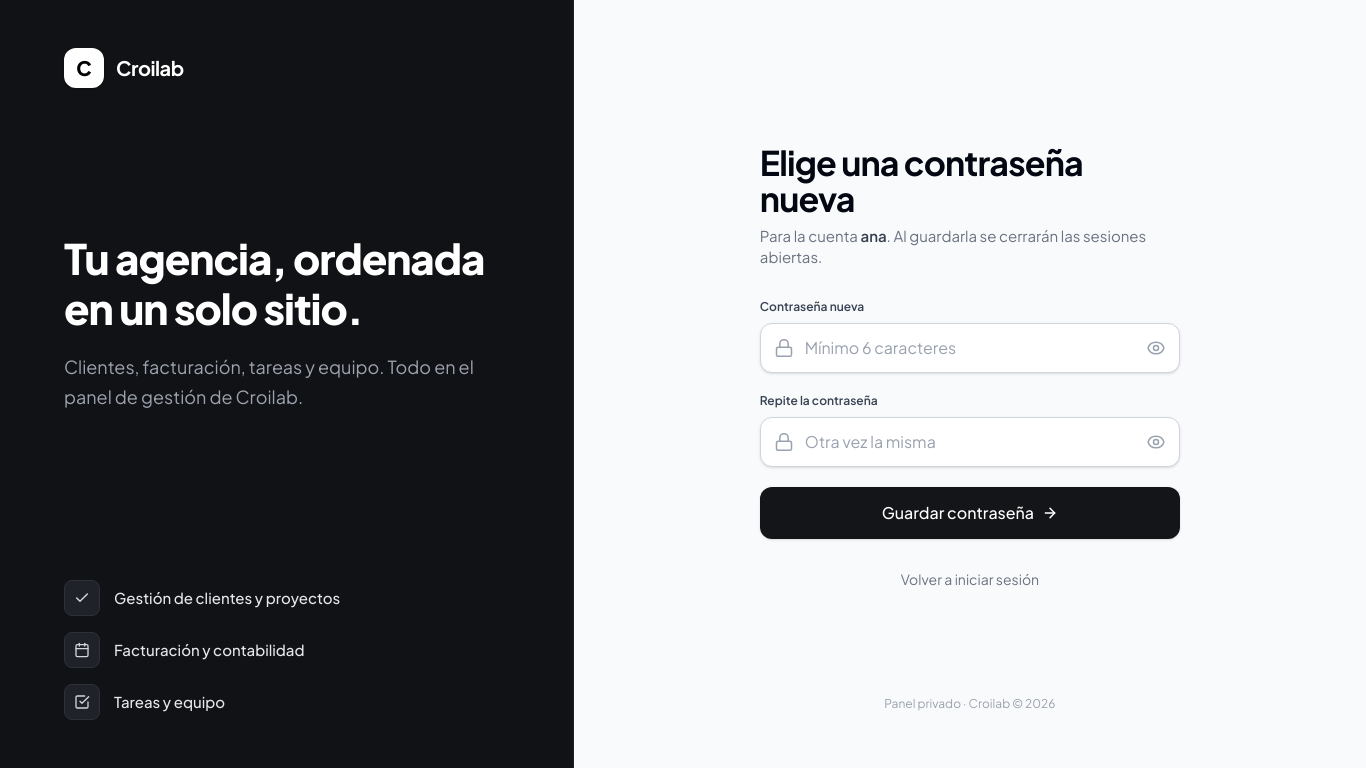
it: Restablecer › si el servidor rechaza la contraseña, el error se ve y se puede reintentar
The width and height of the screenshot is (1366, 768).
Check: the text "ana" is shown, box [860,226,887,245]
Type "Repetida-1" into the password field labelled "Contraseña nueva" at (970, 348), box [760,323,1180,373]
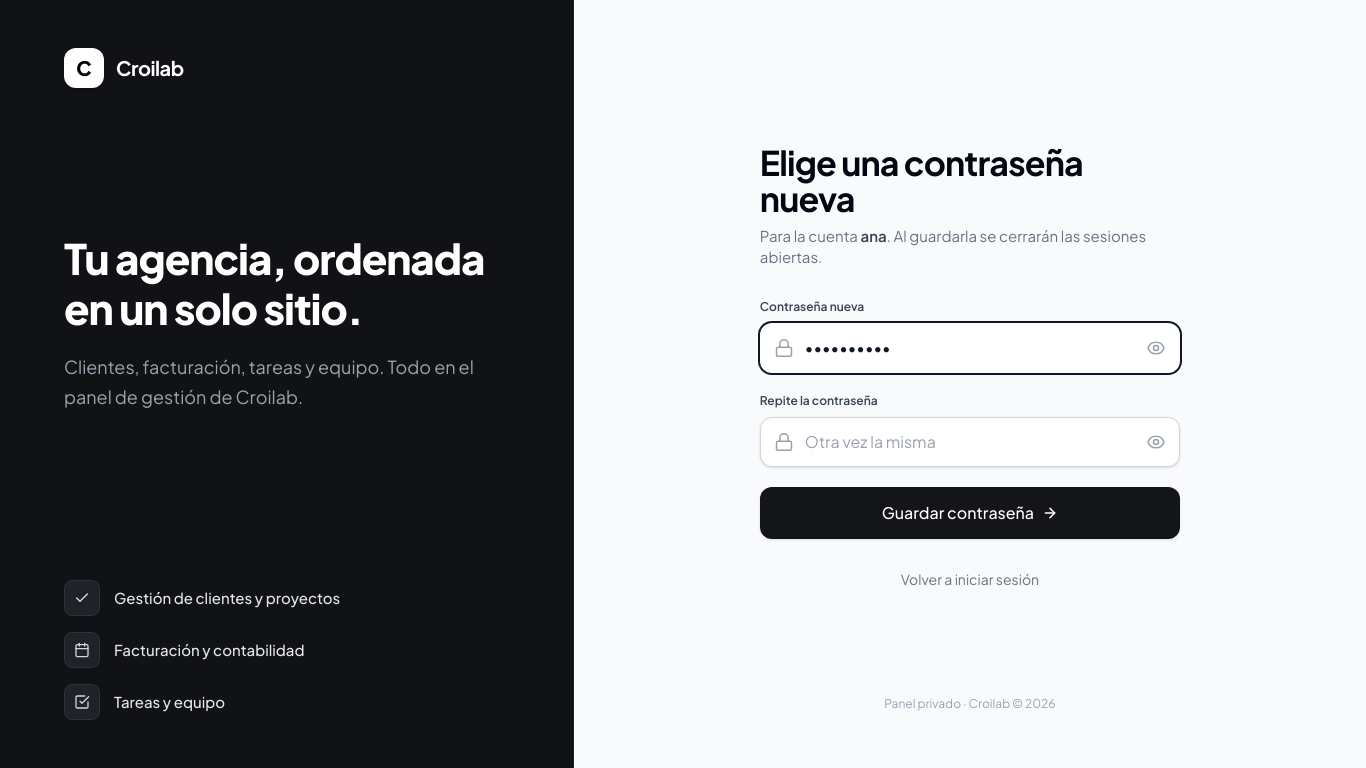
Type "Repetida-1" into the password field labelled "Repite la contraseña" at (970, 442), box [760,417,1180,467]
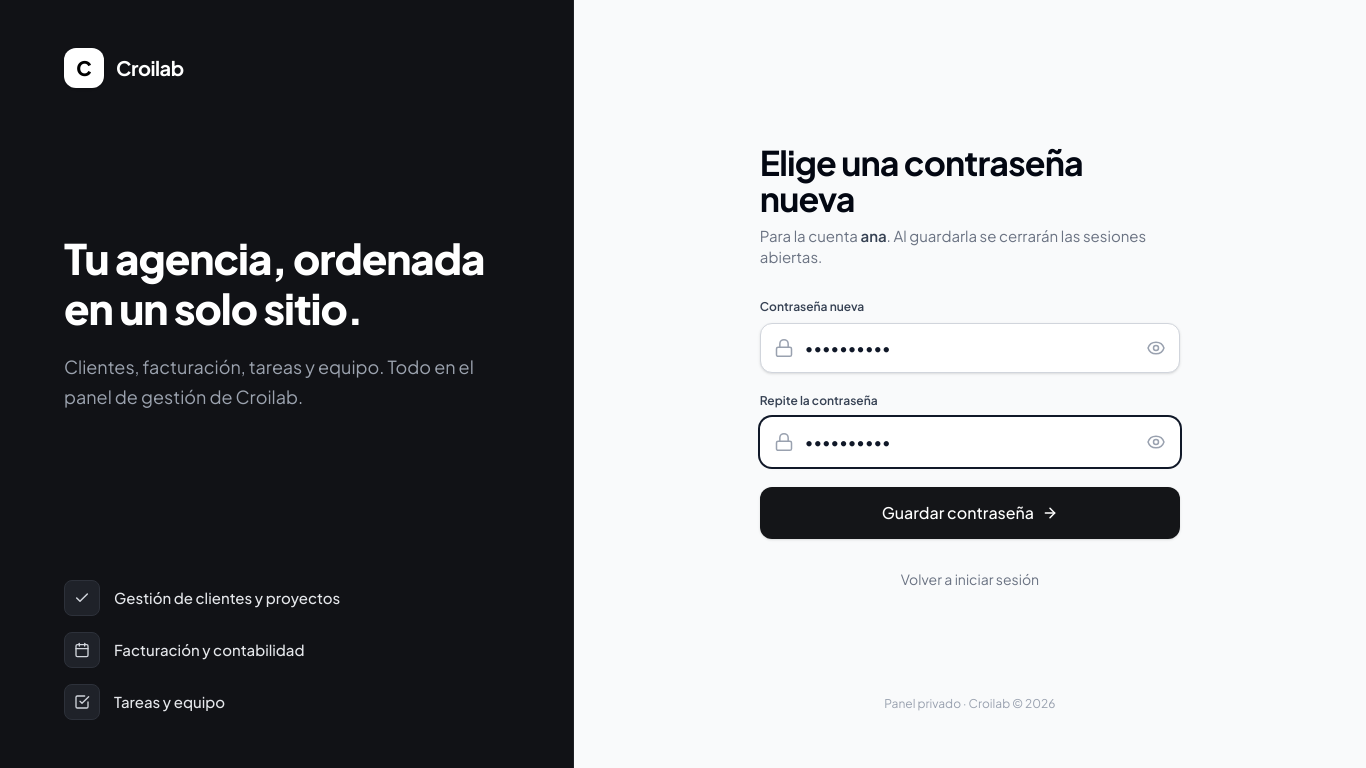
Click the button "Guardar contraseña" at (970, 513), box [760,487,1180,539]
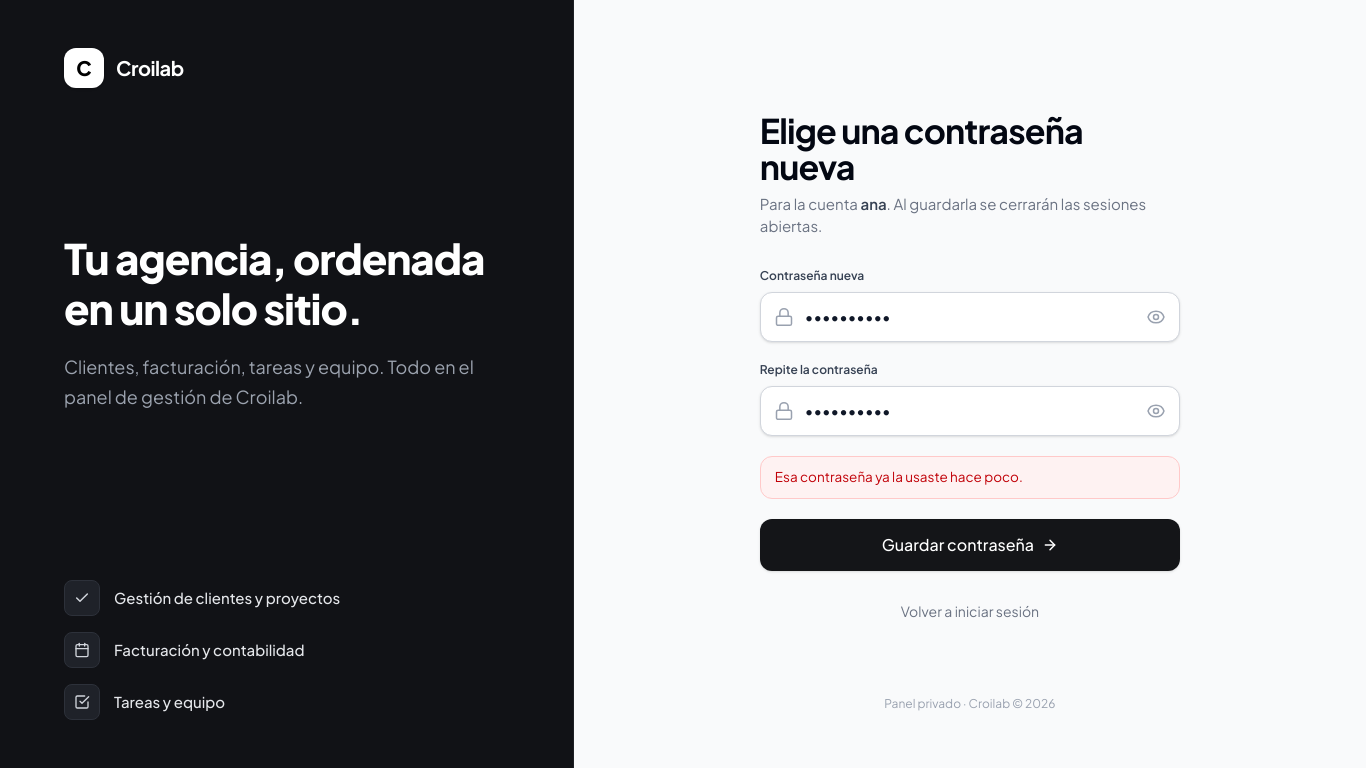
Check: the password field labelled "Contraseña nueva" is enabled, box [760,292,1180,342]
Check: the message shows "ya la usaste", box [775,468,1023,485]
